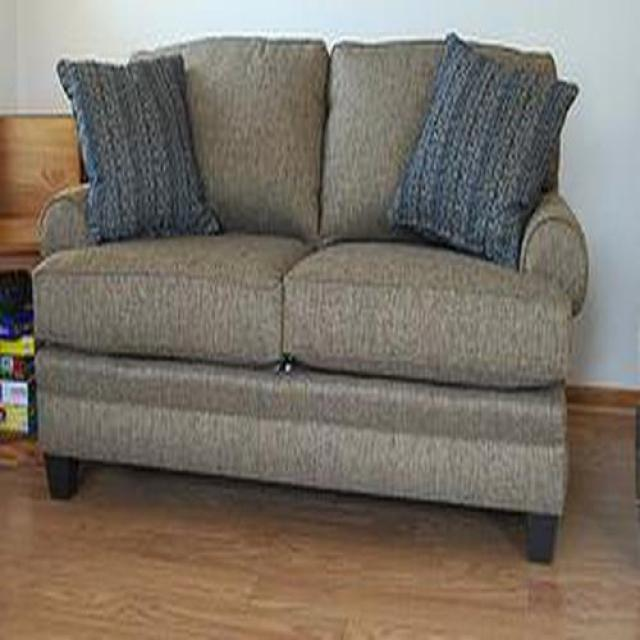sofa: (31, 32, 591, 563)
